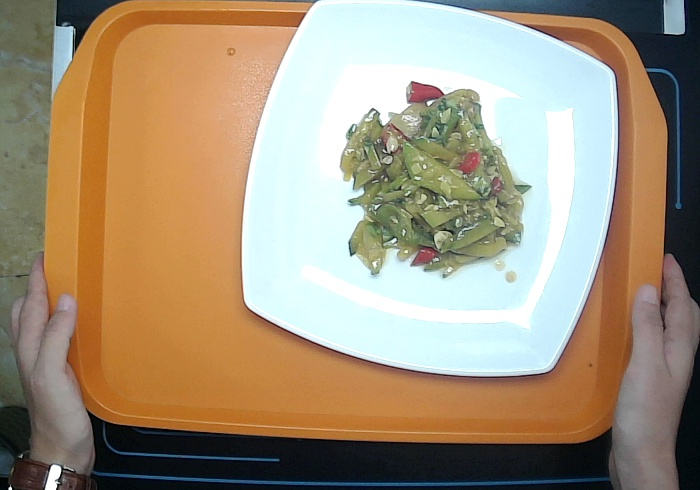ZNLD-Bai_Fang_Pan: (237, 3, 618, 379)
